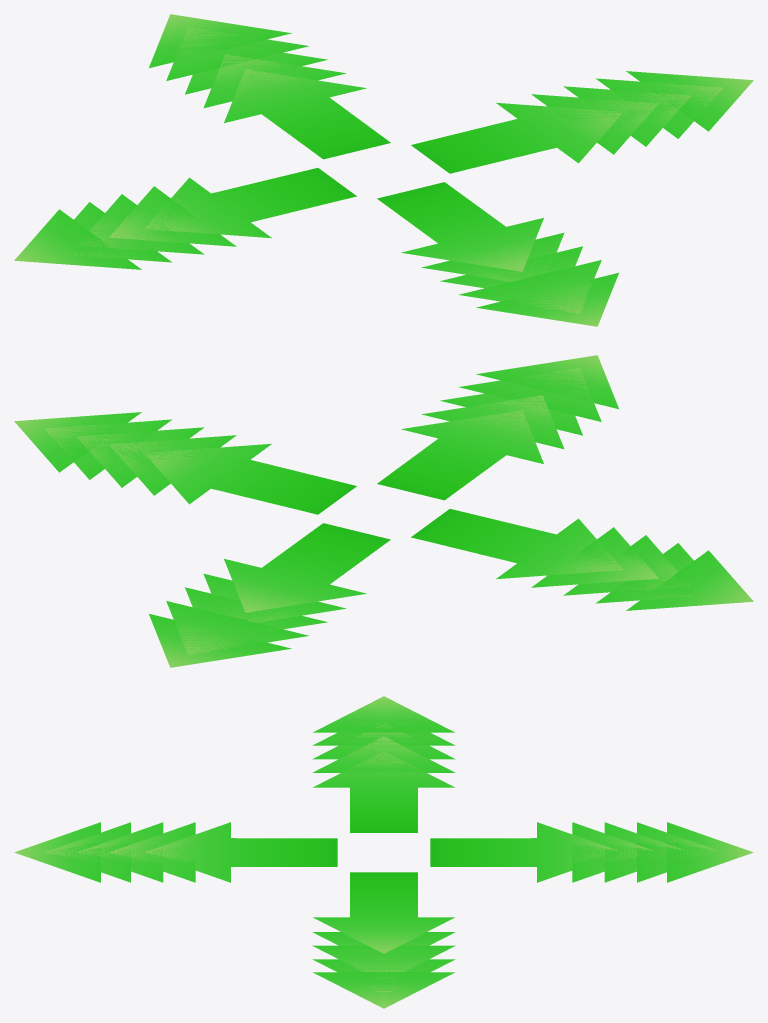
Rendered from arrowAnimation11.fbx.
3 renders of one model, top to bottom at view 1: azimuth 30°, elevation 25°; view 2: azimuth 150°, elevation 25°; view 3: azimuth 270°, elevation 25°, orthographic. The views are drawn at different scales.
Parts seen in each view (by area): view 1: frame1, frame5, frame4, frame2, frame3; view 2: frame1, frame5, frame4, frame2, frame3; view 3: frame1, frame5, frame2, frame3, frame4.
Boxes of the visible parts, bbox=[...] form: frame1: bbox=[144, 69, 622, 271]; frame5: bbox=[14, 14, 753, 326]; frame4: bbox=[56, 27, 722, 313]; frame2: bbox=[109, 54, 658, 281]; frame3: bbox=[78, 49, 690, 298]; frame1: bbox=[144, 410, 623, 612]; frame5: bbox=[14, 355, 753, 667]; frame4: bbox=[45, 368, 693, 654]; frame2: bbox=[110, 395, 658, 622]; frame3: bbox=[77, 387, 689, 640]; frame1: bbox=[144, 751, 618, 953]; frame5: bbox=[14, 696, 753, 1008]; frame2: bbox=[109, 736, 653, 959]; frame3: bbox=[77, 725, 687, 979]; frame4: bbox=[44, 710, 720, 995].
Size of the model in its own units: 0.0235 by 8.12e-06 by 0.0235.
